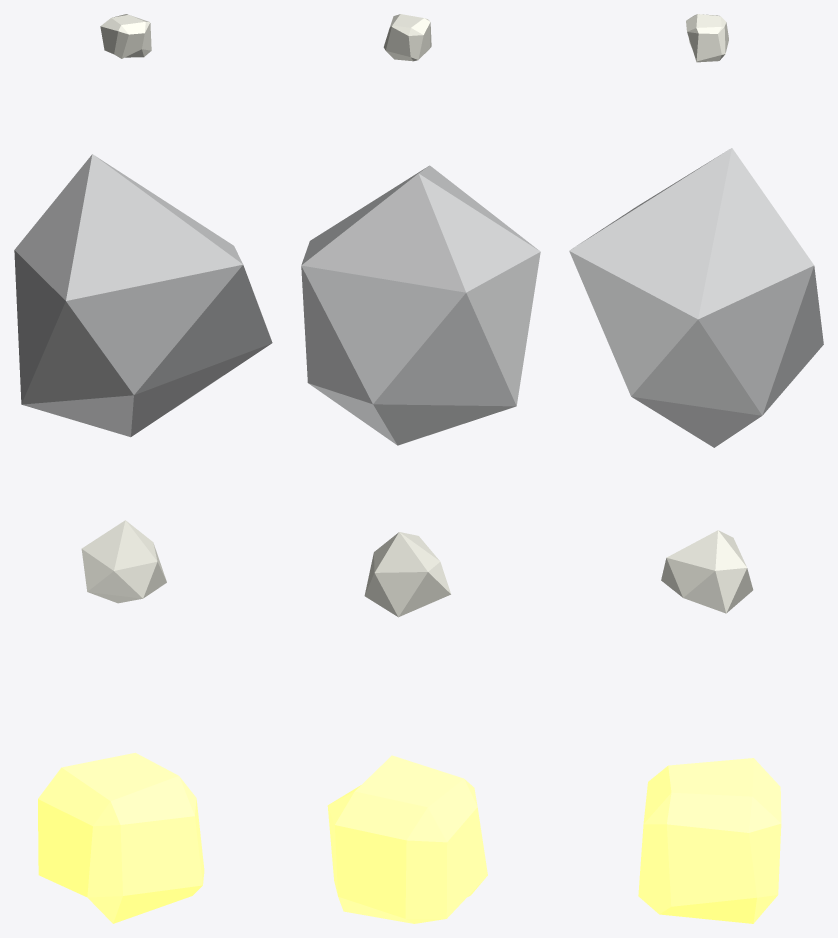
The model's file is FX_Phosphorus.fbx.
The picture shows the model from 3 angles, left to right: view 1: azimuth 30°, elevation 25°; view 2: azimuth 150°, elevation 25°; view 3: azimuth 270°, elevation 25°; orthographic projection.
Parts seen in each view (by area): view 1: FX_WP_Smoke, FX_WP_Flame, FX_WP_Phosphor, FX_WP_Ember; view 2: FX_WP_Smoke, FX_WP_Flame, FX_WP_Phosphor, FX_WP_Ember; view 3: FX_WP_Smoke, FX_WP_Flame, FX_WP_Phosphor, FX_WP_Ember.
Part boxes in pixels (x1,y1,x2,y2): FX_WP_Smoke: [14, 154, 272, 437]; FX_WP_Flame: [38, 752, 204, 923]; FX_WP_Phosphor: [81, 520, 166, 603]; FX_WP_Ember: [100, 14, 151, 58]; FX_WP_Smoke: [301, 165, 540, 445]; FX_WP_Flame: [327, 755, 487, 923]; FX_WP_Phosphor: [364, 532, 450, 617]; FX_WP_Ember: [383, 14, 431, 61]; FX_WP_Smoke: [569, 148, 823, 447]; FX_WP_Flame: [638, 758, 781, 923]; FX_WP_Phosphor: [661, 530, 753, 613]; FX_WP_Ember: [686, 14, 728, 62].
Size of the model in its own units: 0.3799 by 1.49 by 0.389.
